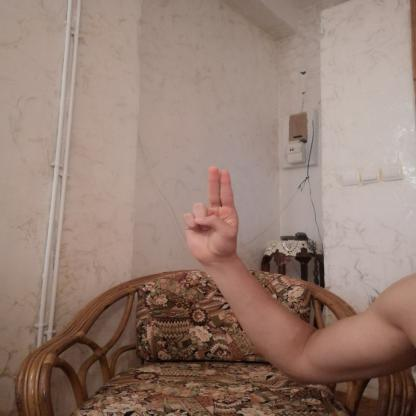TA: (170, 156, 245, 270)
